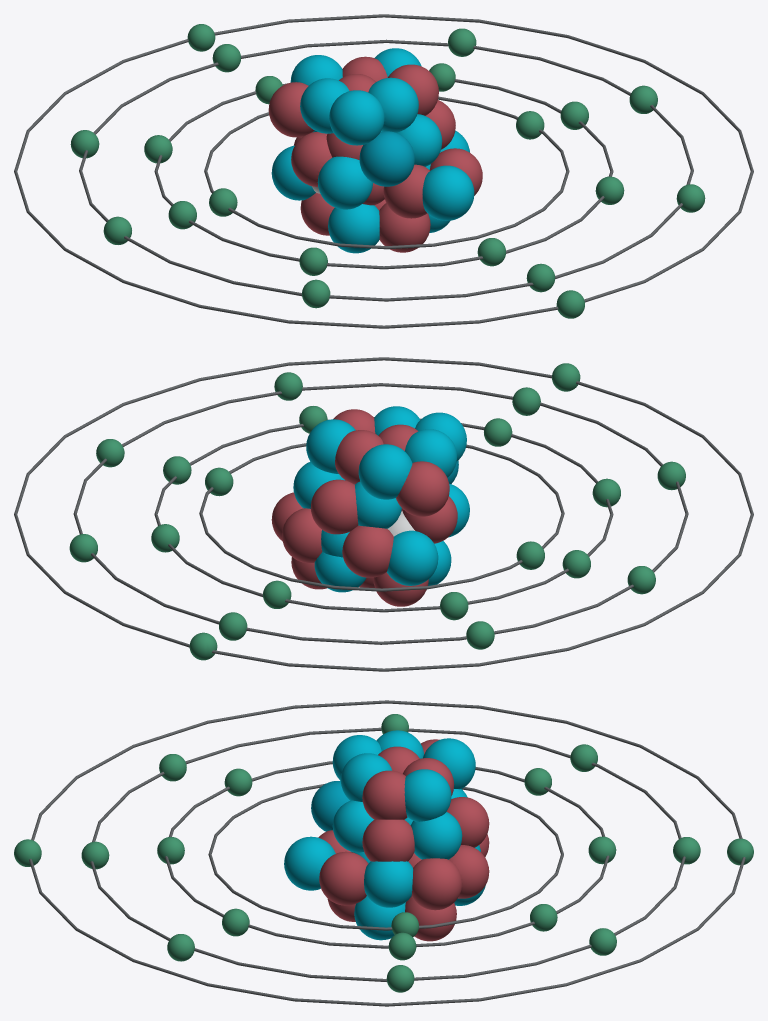
Rendered from calcium2.glb.
The picture shows the model from 3 angles, top to bottom: view 1: azimuth 30°, elevation 25°; view 2: azimuth 150°, elevation 25°; view 3: azimuth 270°, elevation 25°; orthographic projection. The views are drawn at different scales.
Parts seen in each view (by area): view 1: Mesh_Mesh_head_geo.001_lambert2SG.001_0; view 2: Mesh_Mesh_head_geo.001_lambert2SG.001_0; view 3: Mesh_Mesh_head_geo.001_lambert2SG.001_0.
Boxes of the visible parts, left/top/right/bottom form: Mesh_Mesh_head_geo.001_lambert2SG.001_0: left=14, top=14, right=753, bottom=328; Mesh_Mesh_head_geo.001_lambert2SG.001_0: left=14, top=357, right=753, bottom=671; Mesh_Mesh_head_geo.001_lambert2SG.001_0: left=14, top=700, right=753, bottom=1006.
Bounding box in the file's own units: 267 × 66.01 × 274.
